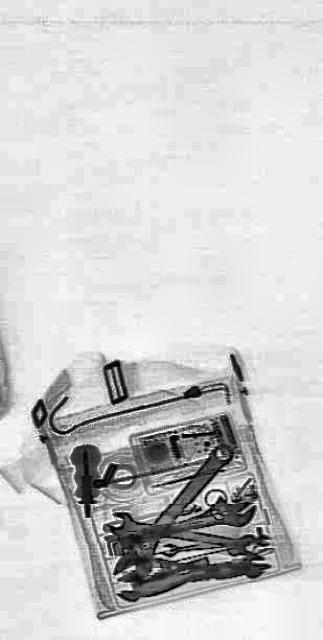Wrench: (107, 423, 239, 615), (120, 492, 255, 558), (107, 508, 254, 558), (115, 548, 209, 604), (181, 549, 265, 585)
